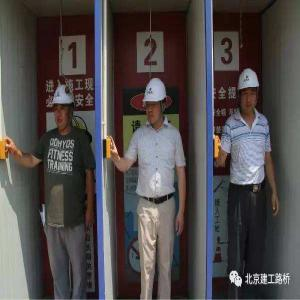white: (145, 78, 169, 127), (237, 69, 261, 115), (51, 87, 76, 131)
